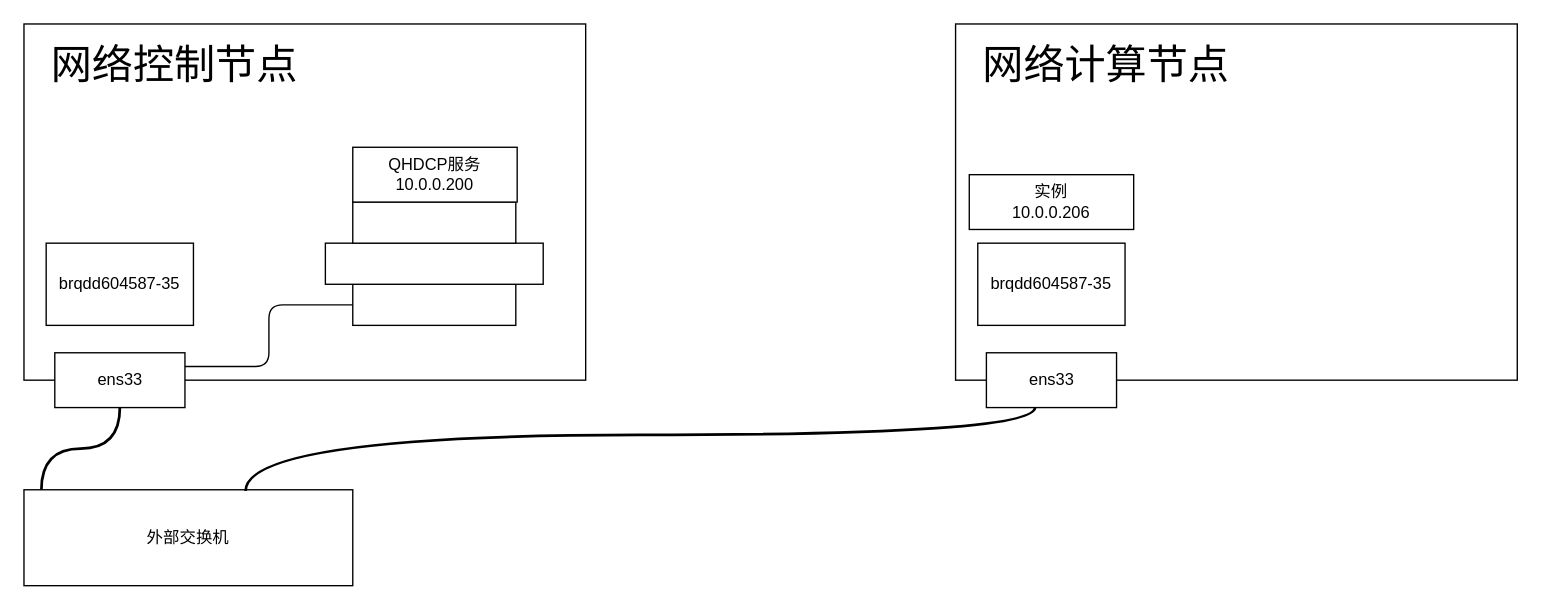
Image size: 1541x610. Some labels were removed from this diagram. Each missing label, with the centre of its shape:
ns-a98eeb82-7a@if8: point (433, 222)
qdhcp-dd604587-3542-409b-9ca8-eed06840fb55: point (433, 263)
tapa98eeb82-7a@if2: point (433, 304)
